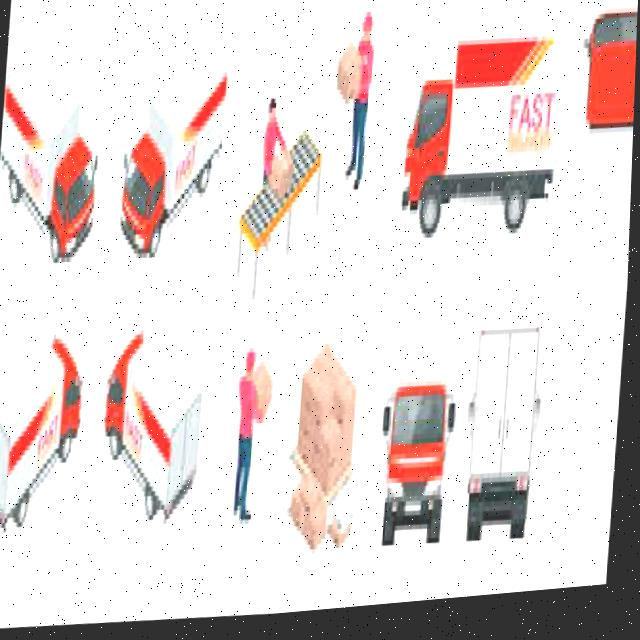truck: (398, 27, 569, 252), (562, 11, 638, 415), (118, 26, 232, 270), (0, 19, 107, 274), (99, 320, 211, 539), (0, 317, 90, 536), (382, 334, 457, 561)
